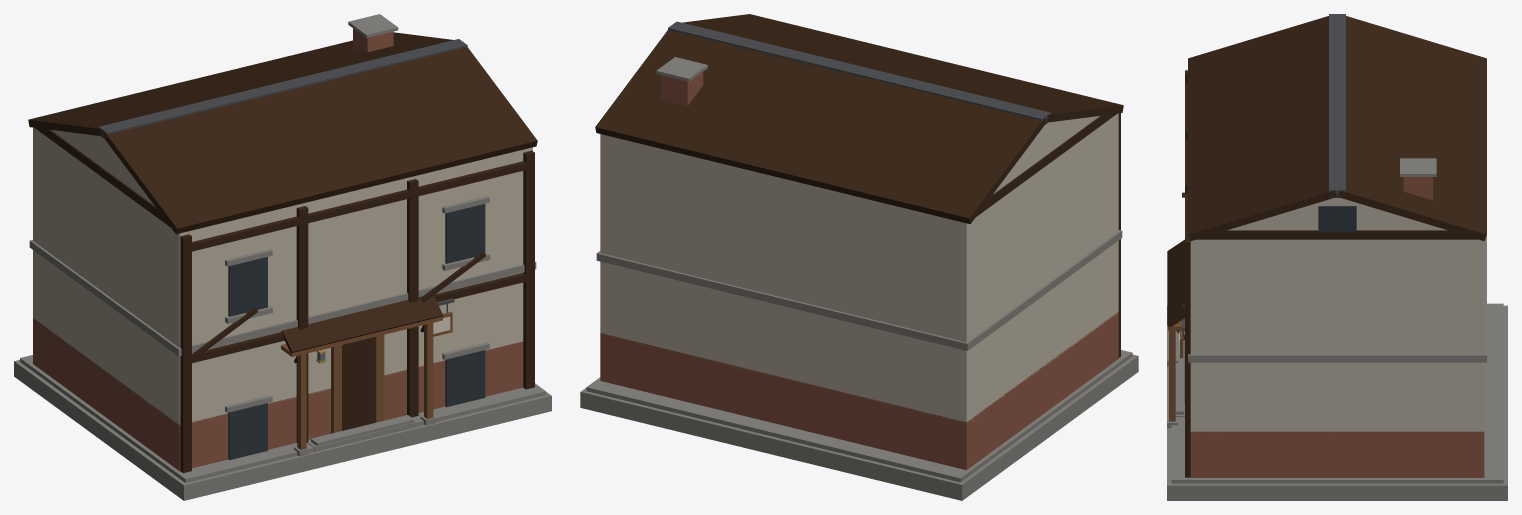
File: SN_HT_Tavern.glb
The picture shows the model from 3 angles, left to right: view 1: azimuth 30°, elevation 25°; view 2: azimuth 150°, elevation 25°; view 3: azimuth 270°, elevation 25°; orthographic projection. The views are drawn at different scales.
Parts seen in each view (by area): view 1: SN_HT_Tavern; view 2: SN_HT_Tavern; view 3: SN_HT_Tavern.
Boxes of the visible parts, <box> form: SN_HT_Tavern: <box>14,14,551,500</box>; SN_HT_Tavern: <box>580,14,1138,500</box>; SN_HT_Tavern: <box>1167,14,1507,500</box>.
Size of the model in its own units: 10 by 8 by 8.
